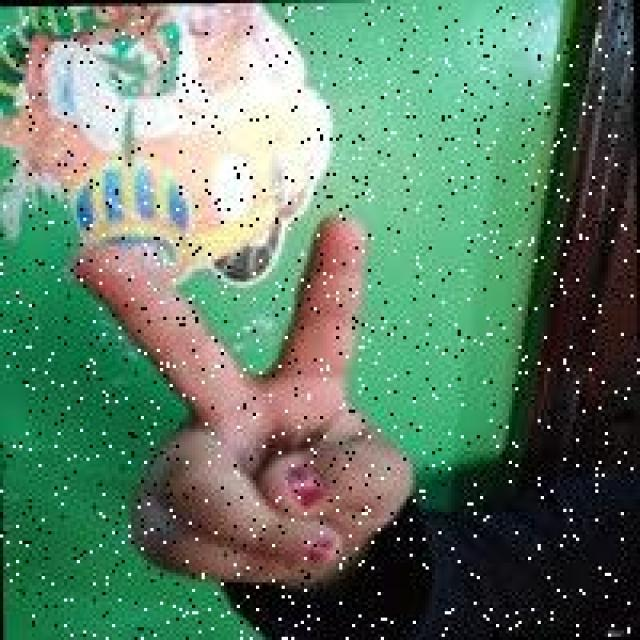V: (74, 202, 416, 595)
